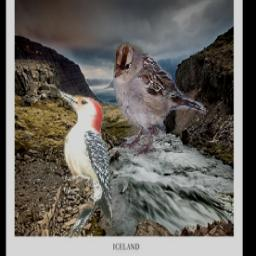Sparrow: (109, 43, 206, 160)
Woodpecker: (55, 89, 113, 238)
